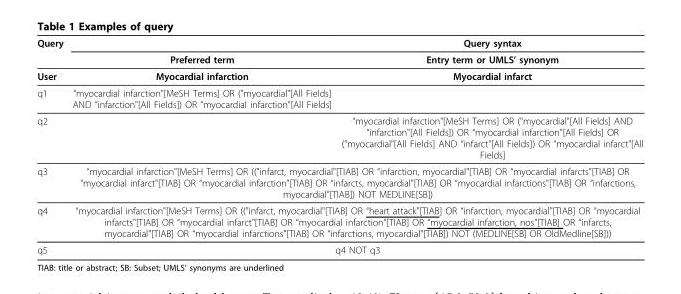table: (36, 36, 642, 255)
table column: (335, 36, 642, 255), (67, 36, 335, 255), (36, 36, 67, 255)
table column header: (36, 36, 642, 67)
table row: (36, 112, 642, 162), (36, 201, 642, 241), (36, 162, 642, 201), (36, 84, 642, 112), (36, 50, 642, 67), (36, 67, 642, 84), (36, 36, 642, 50), (36, 241, 642, 255)
table spanning cell: (67, 201, 642, 241), (67, 162, 642, 201), (335, 36, 642, 67), (67, 36, 335, 67), (67, 241, 642, 255), (36, 36, 67, 67)
